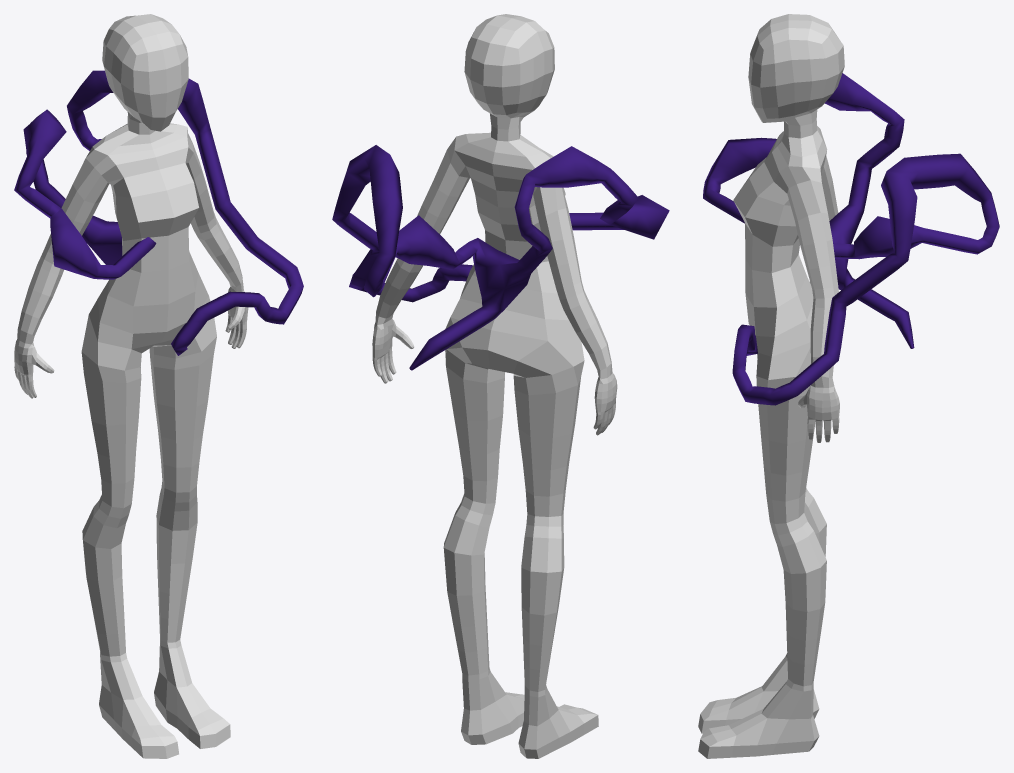
The model's file is alkS.fbx.
The picture shows the model from 3 angles, left to right: view 1: azimuth 30°, elevation 25°; view 2: azimuth 150°, elevation 25°; view 3: azimuth 270°, elevation 25°; orthographic projection. The views are drawn at different scales.
Visible parts, largest first — view 1: Cube.003, Cube.001; view 2: Cube.003, Cube.001; view 3: Cube.003, Cube.001.
Part boxes in pixels (box(x1,y1,x2,y2)): Cube.003: box(14, 14, 248, 758); Cube.001: box(14, 70, 303, 355); Cube.003: box(372, 14, 617, 758); Cube.001: box(332, 145, 669, 370); Cube.003: box(698, 14, 844, 758); Cube.001: box(703, 73, 999, 405).
Bounding box in the file's own units: 832 × 2008 × 764.
